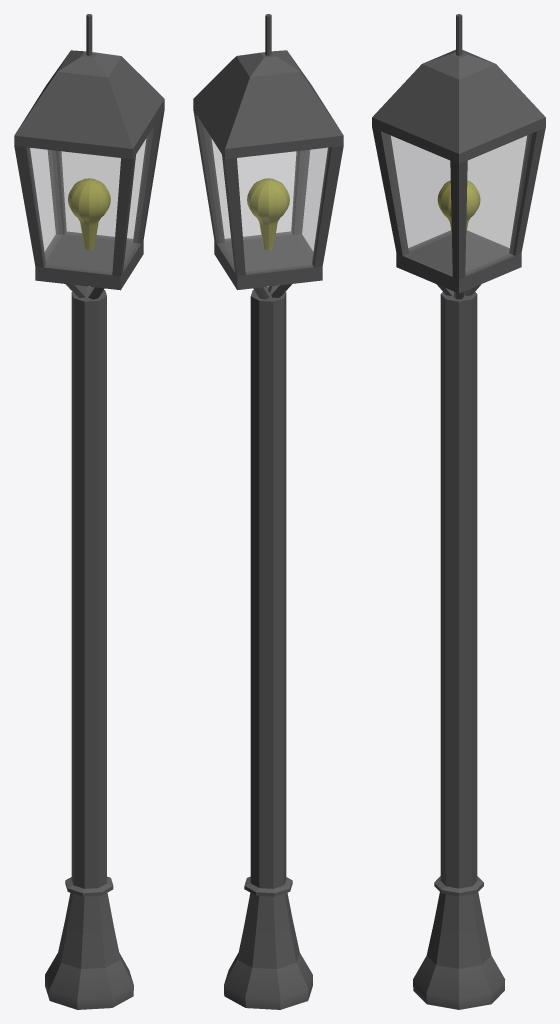
The model's file is lampadaire.fbx.
3 views of the same model, side by side, from view 1: azimuth 30°, elevation 25°; view 2: azimuth 150°, elevation 25°; view 3: azimuth 270°, elevation 25° (orthographic).
Visible parts, largest first — view 1: lampadaire; view 2: lampadaire; view 3: lampadaire.
Part boxes in pixels (x1,y1,x2,y2): lampadaire: (14,14,164,1009); lampadaire: (193,14,343,1009); lampadaire: (372,14,545,1009).
Bounding box in the file's own units: 2.59 × 16.07 × 2.59.
